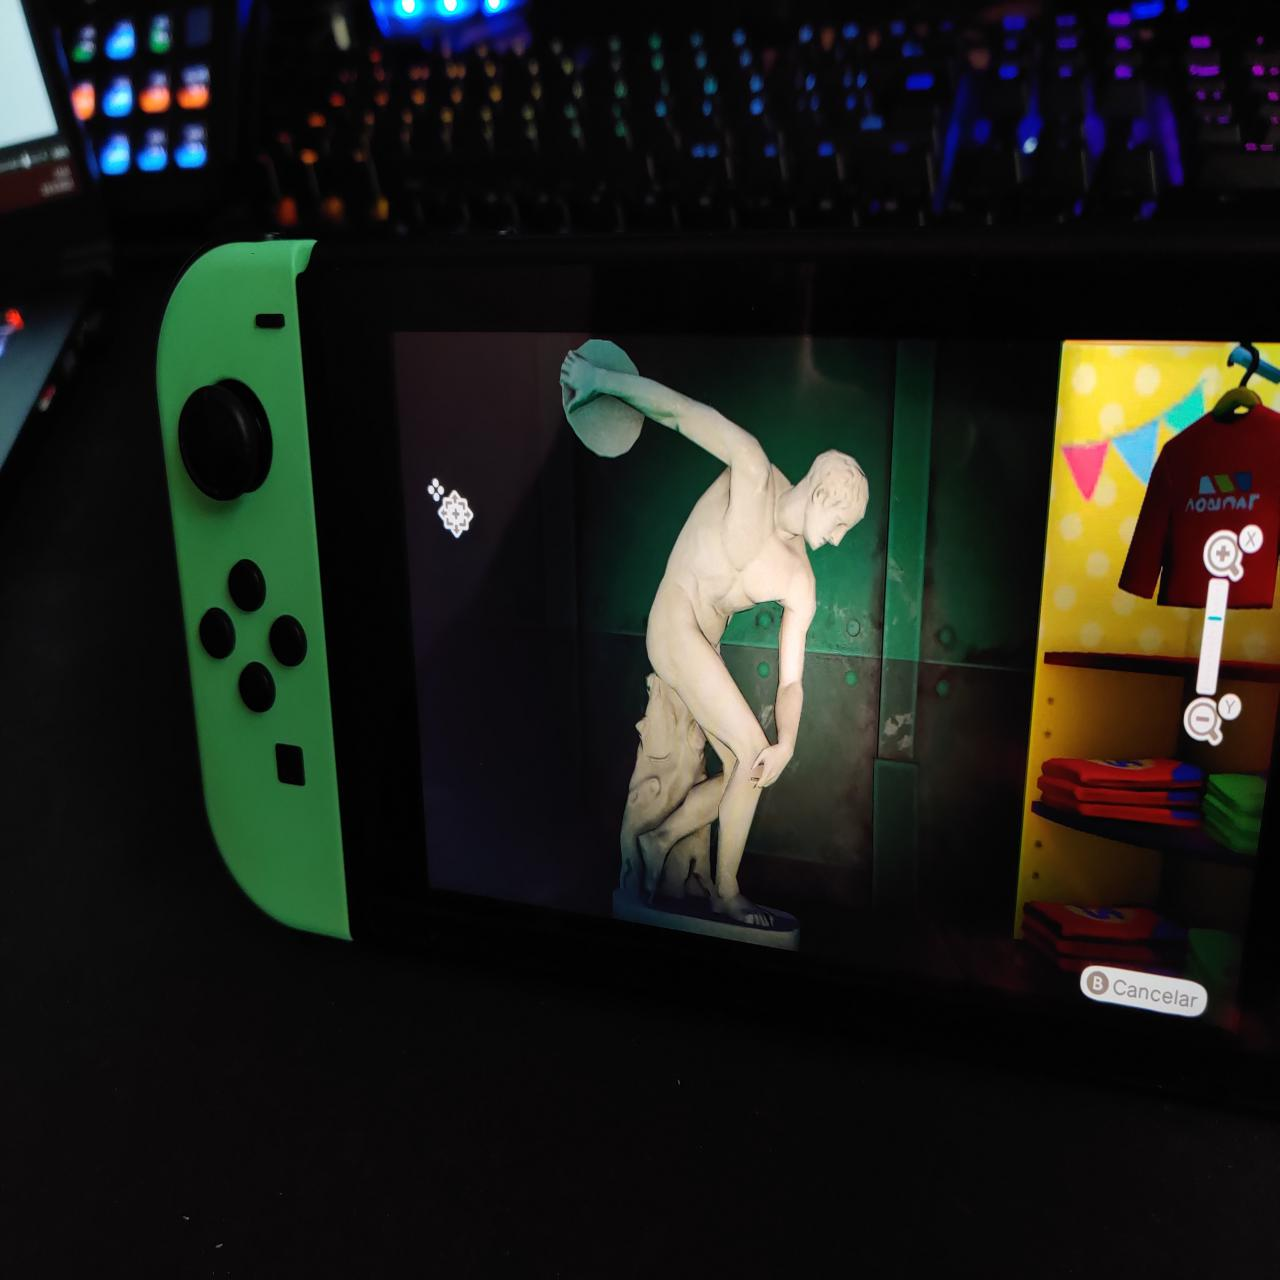Diskobolos: (559, 331, 873, 955)
